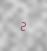two: (19, 19, 25, 31)
